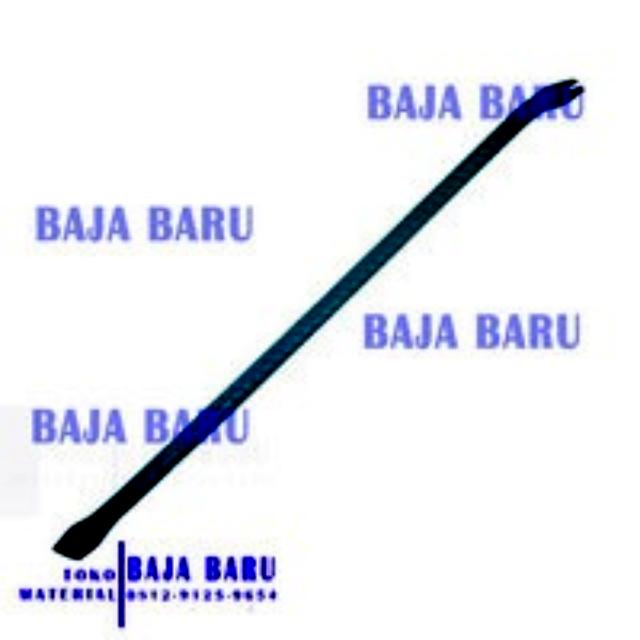crow bar: (54, 76, 585, 561)
